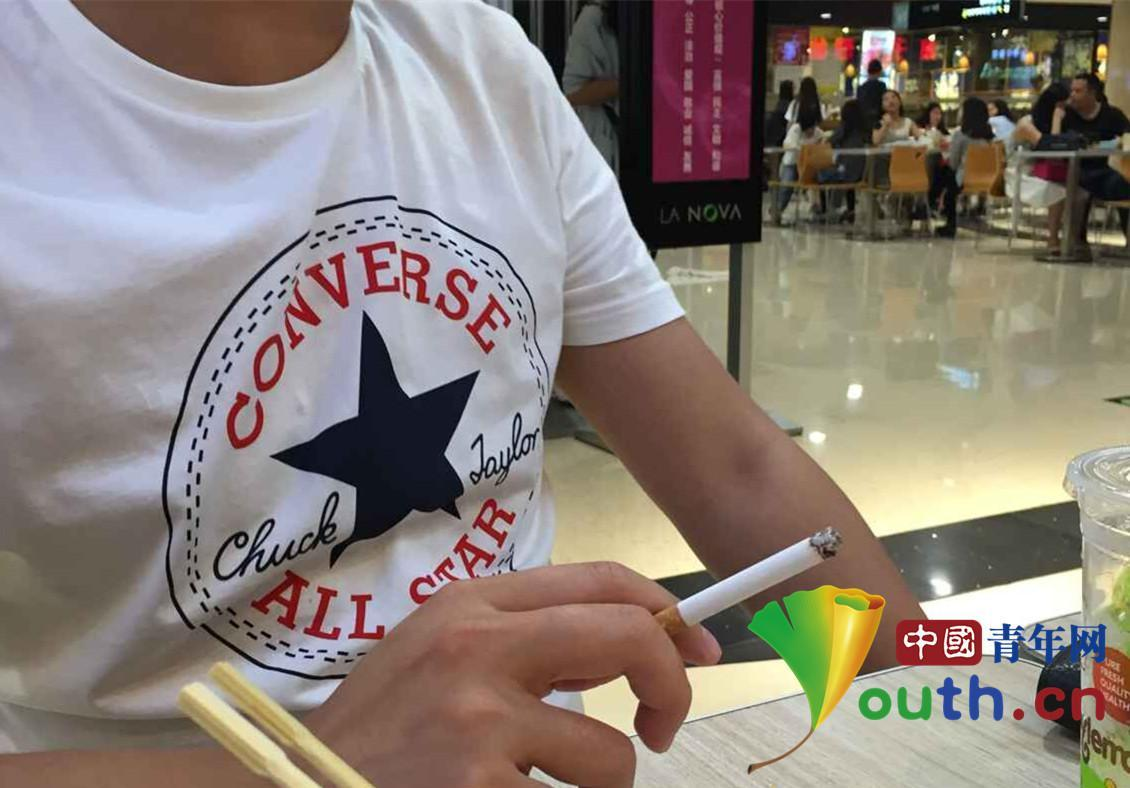Cigarette: (654, 526, 848, 631)
